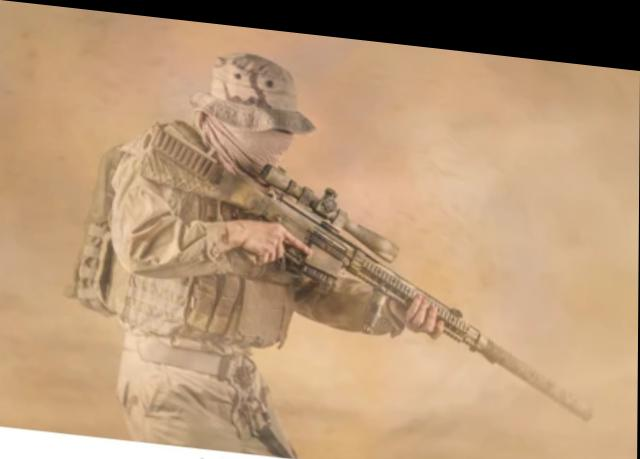other: (104, 50, 309, 452)
